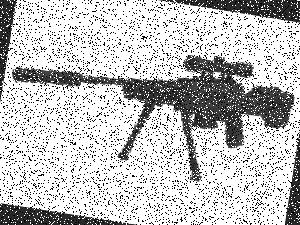sniper: (1, 21, 298, 196)
